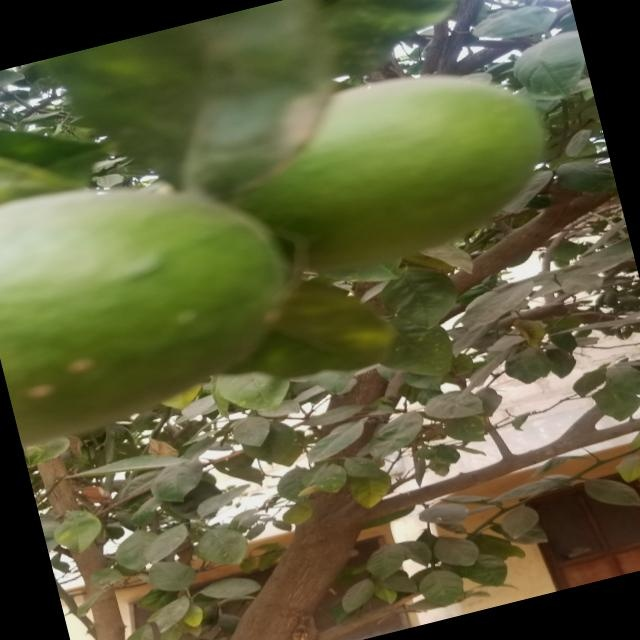agrume: (0, 133, 323, 448)
